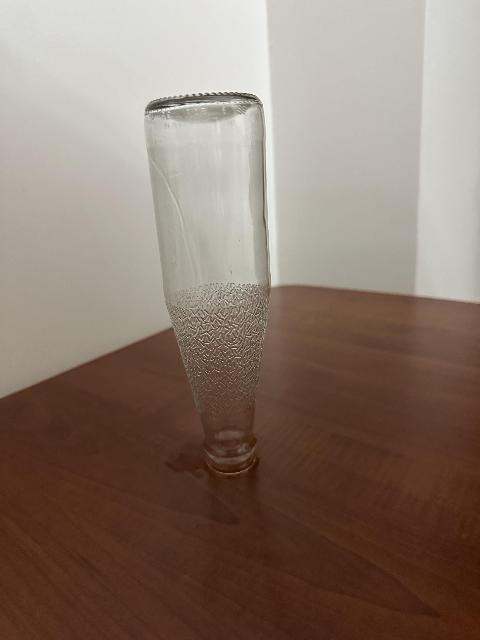Cam: (144, 86, 274, 473)
